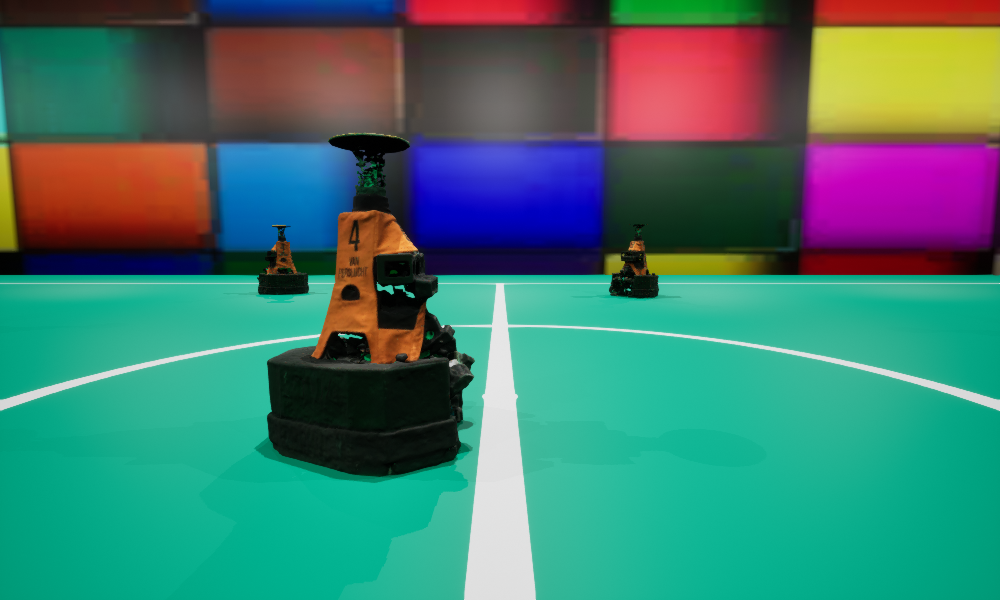o: (267, 133, 474, 476), (609, 224, 658, 297), (257, 225, 308, 294)
